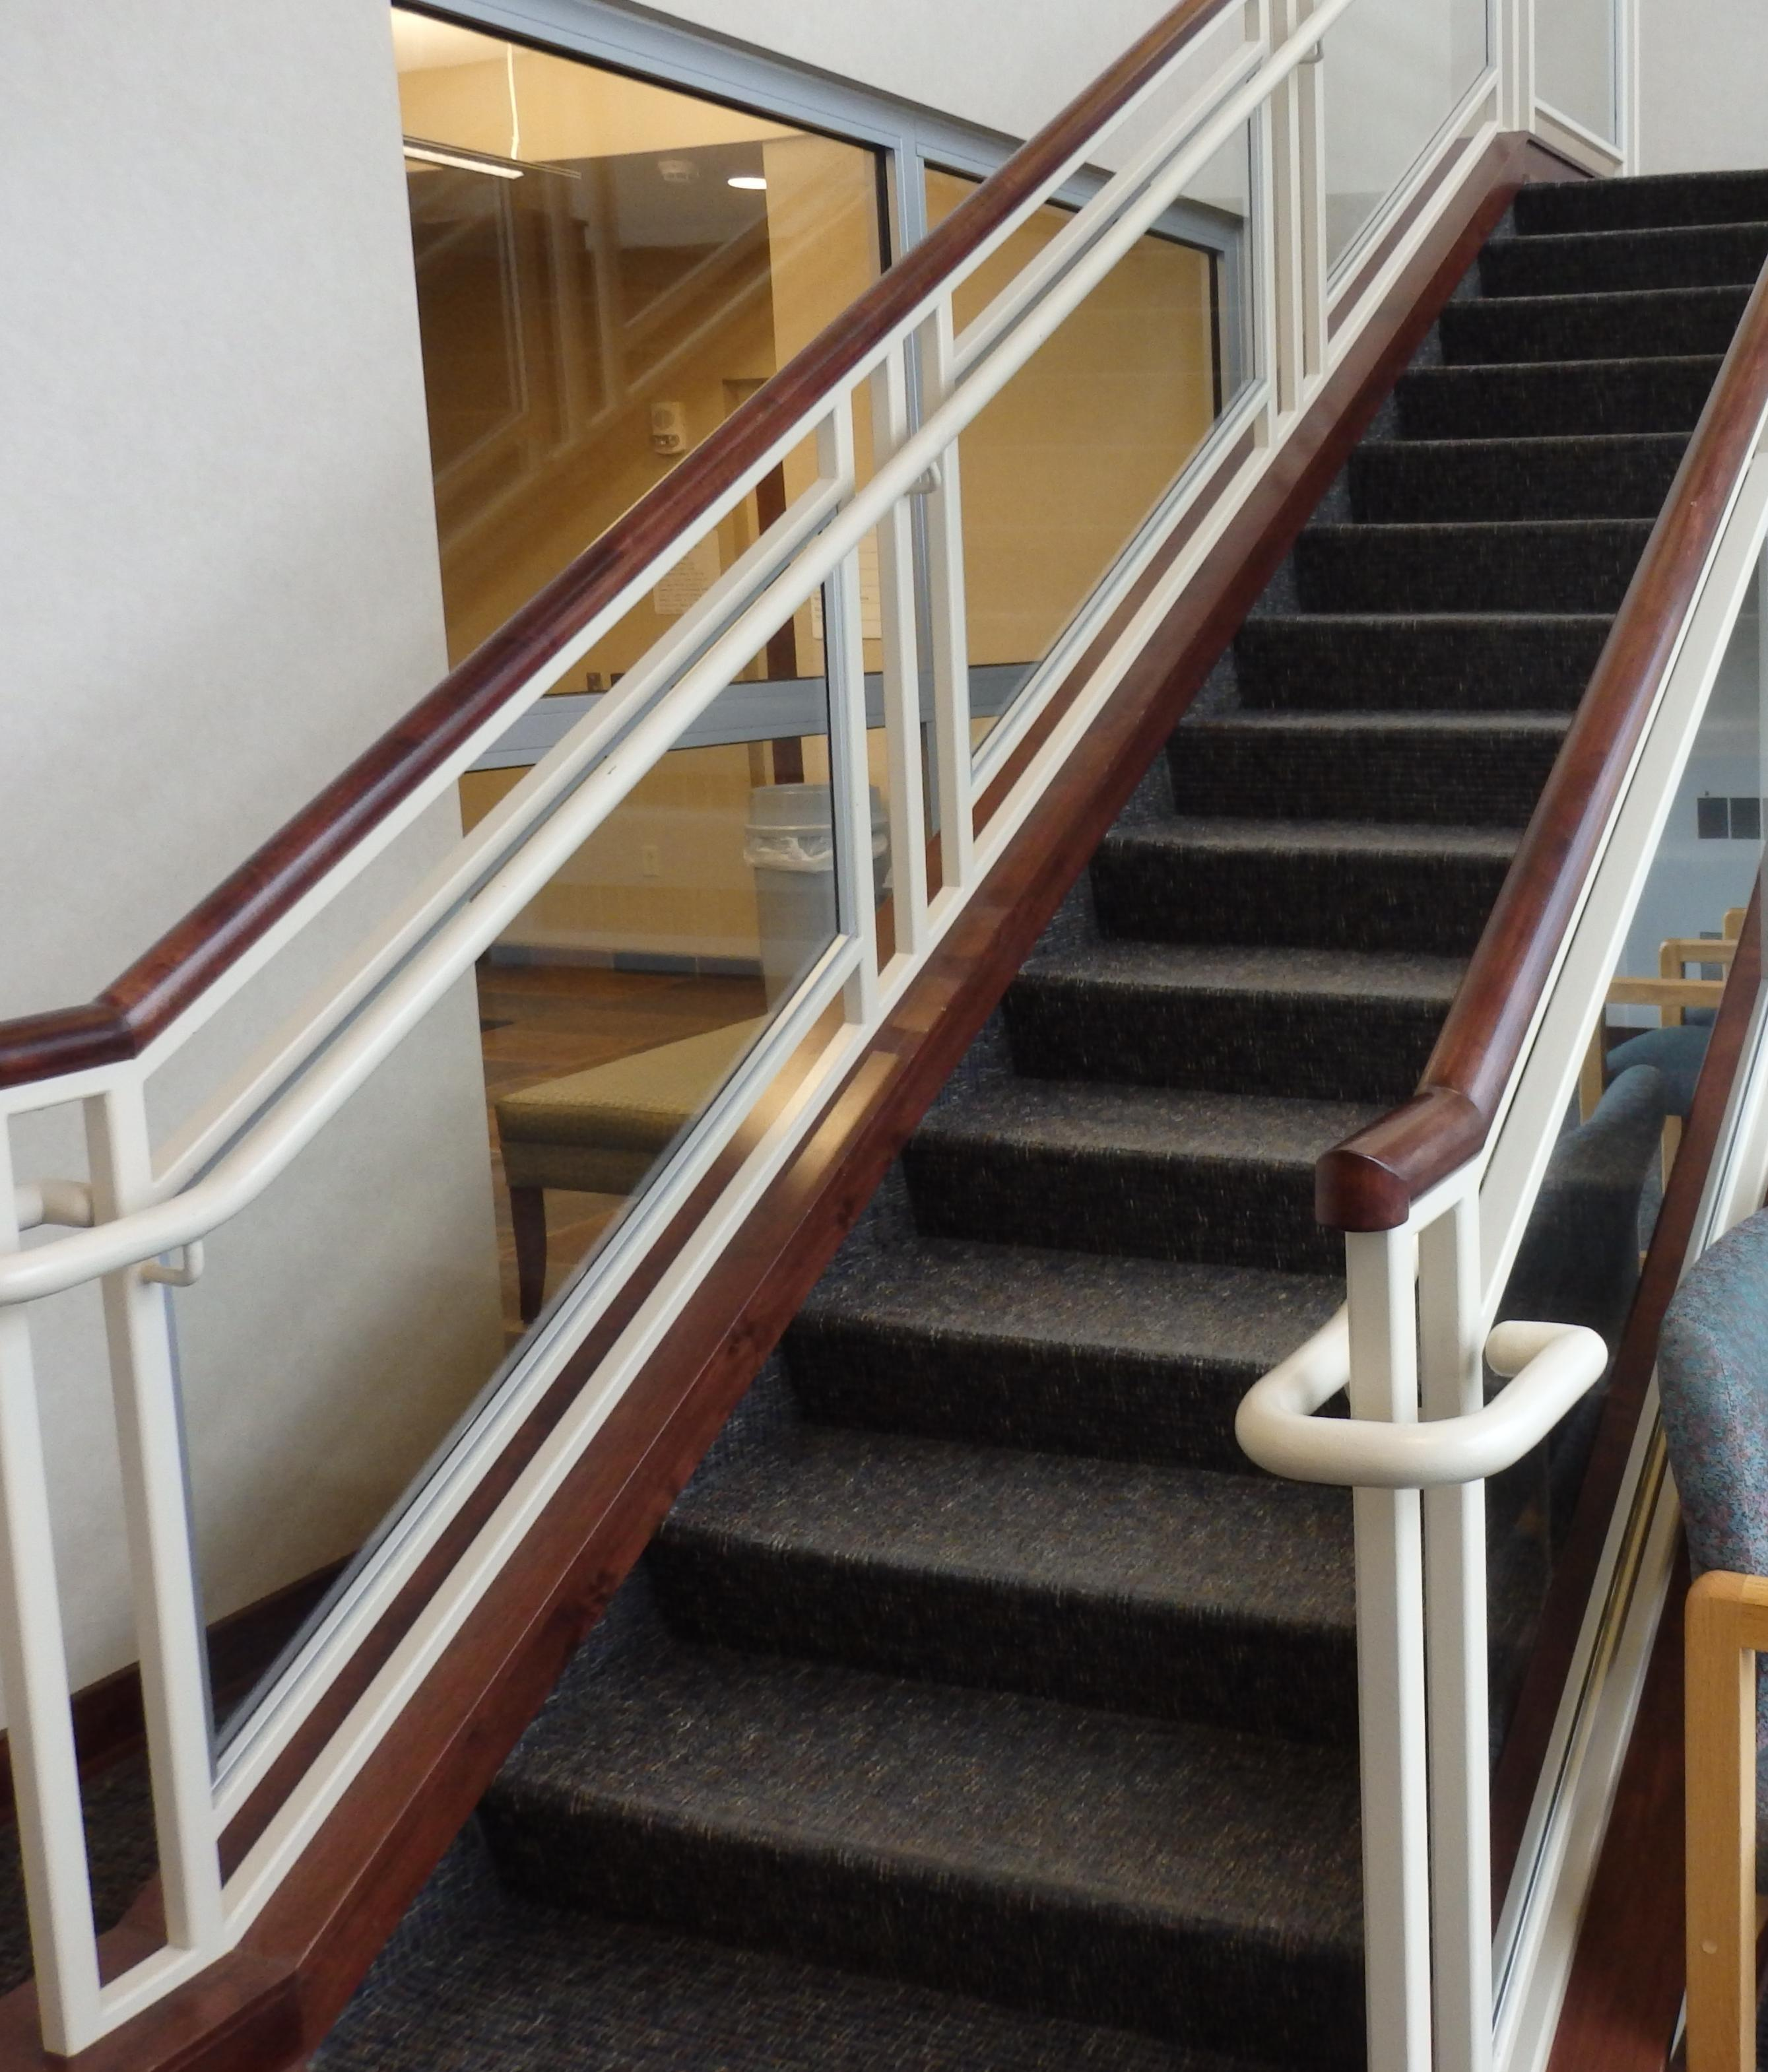stairs_up: (519, 139, 1768, 2068)
